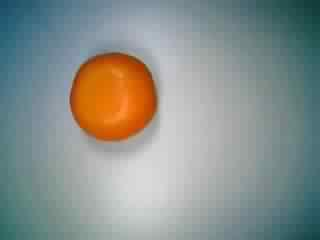orange: (67, 49, 165, 147)
